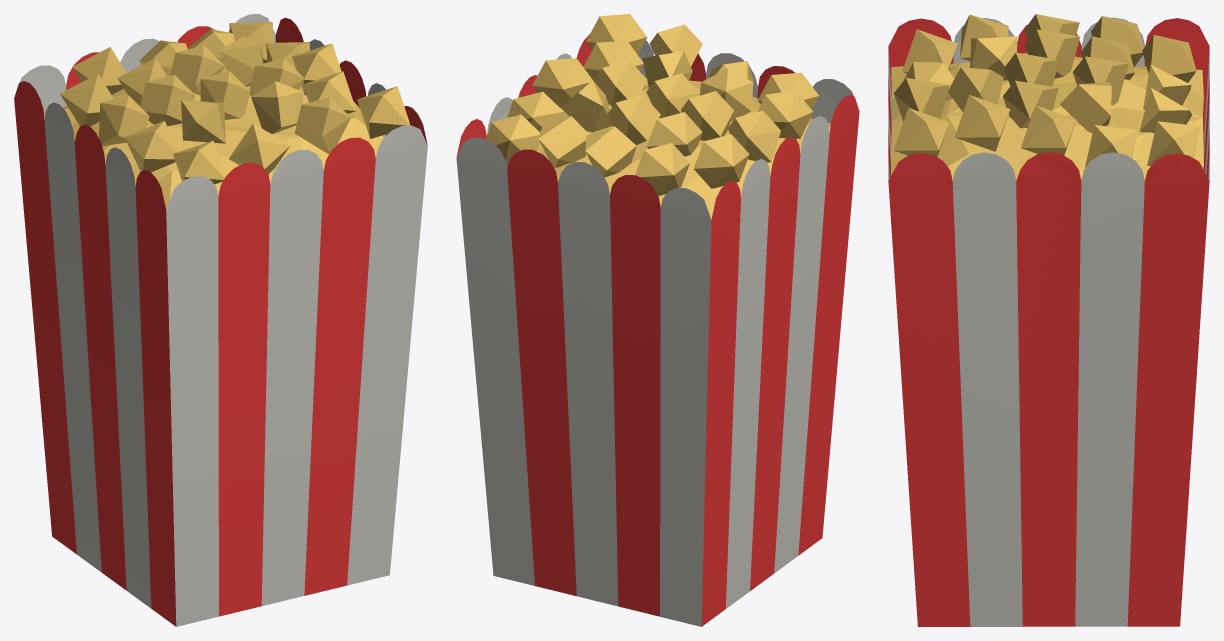
Rendered from Popcorn_Cup_02.fbx.
3 renders of one model, left to right at view 1: azimuth 30°, elevation 25°; view 2: azimuth 150°, elevation 25°; view 3: azimuth 270°, elevation 25°, orthographic. The views are drawn at different scales.
Visible parts, largest first — view 1: Popcorn_Cup_02; view 2: Popcorn_Cup_02; view 3: Popcorn_Cup_02.
Part boxes in pixels (x1,y1,x2,y2): Popcorn_Cup_02: (14,14,427,626); Popcorn_Cup_02: (456,14,859,626); Popcorn_Cup_02: (888,14,1209,626).
Size of the model in its own units: 0.1445 by 0.2577 by 0.1454.
